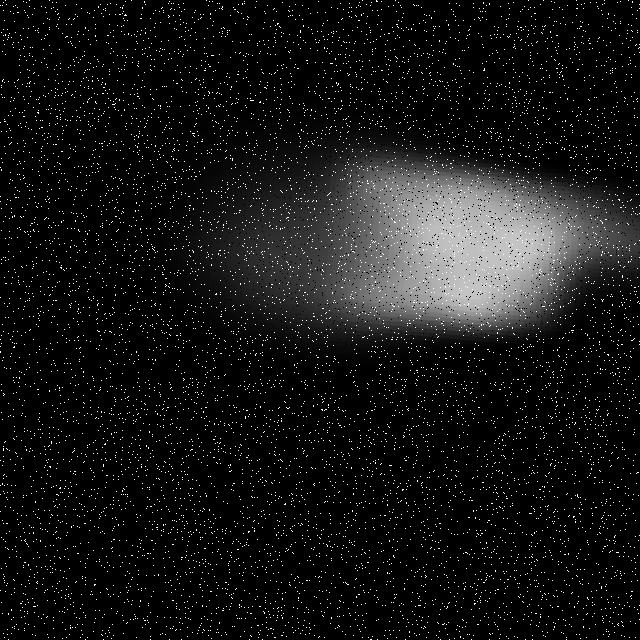person: (150, 90, 640, 386)
